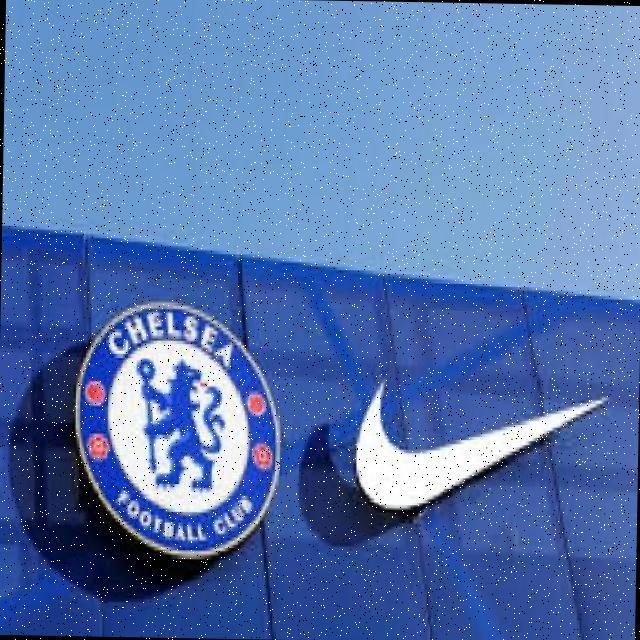Nike: (349, 365, 610, 520)
